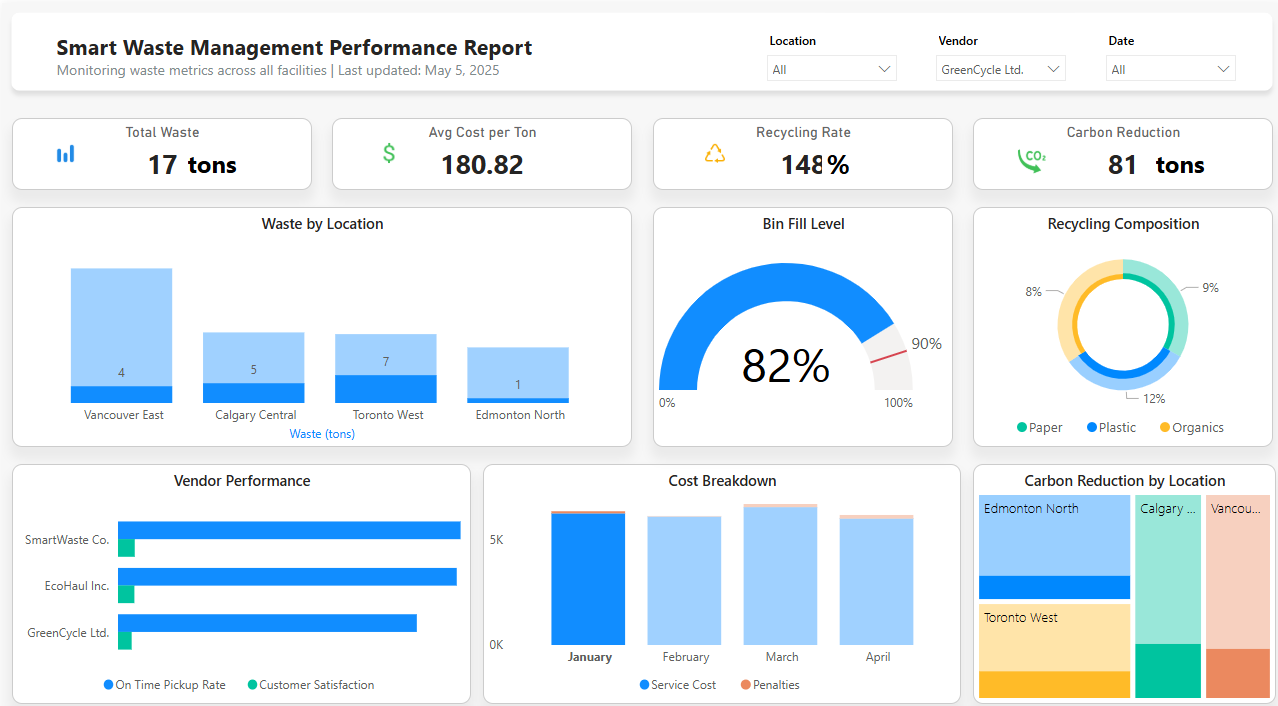

What the dashboard file says about the page in this screenshot:
{"tool":"powerbi","page":{"name":"Waste Management","canvas":[1280,720],"ordinal":0},"visuals":[{"type":"group","id":"g1","title":"Group 1","box":[0,0,1280,97.1],"z":0},{"type":"shape","box":[0,0,1280,97.1],"z":0,"group":"g1"},{"type":"card","title":"Recycling Rate","fields":{"Values":["Measures_Table.Recycling Rate"]},"box":[651,114.6,300,72],"z":0,"group":"g2"},{"type":"group","id":"g2","title":"Group 2","box":[10,114.6,1261.4,72],"z":1000},{"type":"card","title":"Total Waste","fields":{"Values":["Measures_Table.Total Waste","select"]},"box":[10,114.9,300,71.4],"z":1000,"group":"g2"},{"type":"card","title":"Avg Cost per Ton","fields":{"Values":["Measures_Table.Avg Cost Per Ton"]},"box":[330.5,114.6,300,72],"z":2000,"group":"g2"},{"type":"clusteredColumnChart","title":"Waste by Location","fields":{"Category":["waste_collection_summary.Location"],"Y":["Measures_Table.Total Waste"]},"box":[10,204,620,240],"z":2000},{"type":"textbox","box":[50,24.2,515.1,57],"z":3000,"group":"g1"},{"type":"textbox","box":[1148.6,138.6,72.9,47.1],"z":3000},{"type":"textbox","box":[181.4,138.9,81.4,47.1],"z":3000,"group":"g2"},{"type":"slicer","title":"Locations","fields":{"Values":["waste_collection_summary.Location"]},"box":[755,23.9,150,54],"z":4000,"group":"g1"},{"type":"card","title":"Carbon Reduction","fields":{"Values":["Measures_Table.Total Carbon Reduction"]},"box":[971.4,114.9,300,71.4],"z":4000,"group":"g2"},{"type":"clusteredBarChart","title":"Vendor Performance","fields":{"Category":["vendor_scorecard.Vendor"],"Y":["Sum(vendor_scorecard.OnTimePickupRate)","Sum(vendor_scorecard.CustomerSatisfaction)"]},"box":[10,461.4,458.6,240],"z":4000},{"type":"slicer","title":"Vendors","fields":{"Values":["waste_collection_summary.Vendor"]},"box":[924.4,23.9,150,54],"z":5000,"group":"g1"},{"type":"image","box":[35.7,134.4,55.7,31.4],"z":5000,"group":"g2"},{"type":"donutChart","title":"Recycling Composition","fields":{"Y":["Sum(recycling_performance.Paper)","Sum(recycling_performance.Plastic)","Sum(recycling_performance.Organics)"]},"box":[971.4,204.3,300,240],"z":5000},{"type":"slicer","title":"Time","fields":{"Values":["waste_collection_summary.Date"]},"box":[1093.8,23.9,150,54],"z":6000,"group":"g1"},{"type":"image","box":[360,133.2,54.3,32.9],"z":6000,"group":"g2"},{"type":"treemap","title":"Carbon Reduction by Location","fields":{"Group":["sustainability_kpis.Location"],"Values":["Measures_Table.Total Carbon Reduction"]},"box":[971.4,461.4,302.9,240],"z":6000},{"type":"image","box":[990,136.6,80,41.4],"z":7000,"group":"g2"},{"type":"columnChart","title":"Cost Breakdown","fields":{"Category":["waste_collection_summary.Date.Variation.Date Hierarchy.Month"],"Y":["Measures_Table.Total Service Cost","Measures_Table.Total Penalties"]},"box":[480.7,461.4,478.6,240],"z":7000},{"type":"image","box":[685.7,134.9,55.7,30],"z":8000,"group":"g2"},{"type":"gauge","title":"Bin Fill Level","fields":{"Y":["Avg(waste_collection_summary.BinFillPercent)"]},"box":[651.4,204.3,300,240],"z":8000},{"type":"textbox","box":[820,137.1,88.6,45.7],"z":9000}]}

Visuals, with their boxes in screenshot pixels (x1, y1, x2, y2), scaled from the page's 1280x720 canvas onto the 1278x706 screenshot:
"Group 1" group: left=0, top=0, right=1277, bottom=95
shape: left=0, top=0, right=1277, bottom=95
"Recycling Rate" card: left=650, top=112, right=950, bottom=183
"Group 2" group: left=10, top=112, right=1269, bottom=183
"Total Waste" card: left=10, top=113, right=310, bottom=183
"Avg Cost per Ton" card: left=330, top=112, right=630, bottom=183
"Waste by Location" clusteredColumnChart: left=10, top=200, right=629, bottom=435
textbox: left=50, top=24, right=564, bottom=80
textbox: left=1147, top=136, right=1220, bottom=182
textbox: left=181, top=136, right=262, bottom=182
"Locations" slicer: left=754, top=23, right=904, bottom=76
"Carbon Reduction" card: left=970, top=113, right=1269, bottom=183
"Vendor Performance" clusteredBarChart: left=10, top=452, right=468, bottom=688
"Vendors" slicer: left=923, top=23, right=1073, bottom=76
image: left=36, top=132, right=91, bottom=163
"Recycling Composition" donutChart: left=970, top=200, right=1269, bottom=436
"Time" slicer: left=1092, top=23, right=1242, bottom=76
image: left=359, top=131, right=414, bottom=163
"Carbon Reduction by Location" treemap: left=970, top=452, right=1272, bottom=688
image: left=988, top=134, right=1068, bottom=175
"Cost Breakdown" columnChart: left=480, top=452, right=958, bottom=688
image: left=685, top=132, right=740, bottom=162
"Bin Fill Level" gauge: left=650, top=200, right=950, bottom=436
textbox: left=819, top=134, right=907, bottom=179
